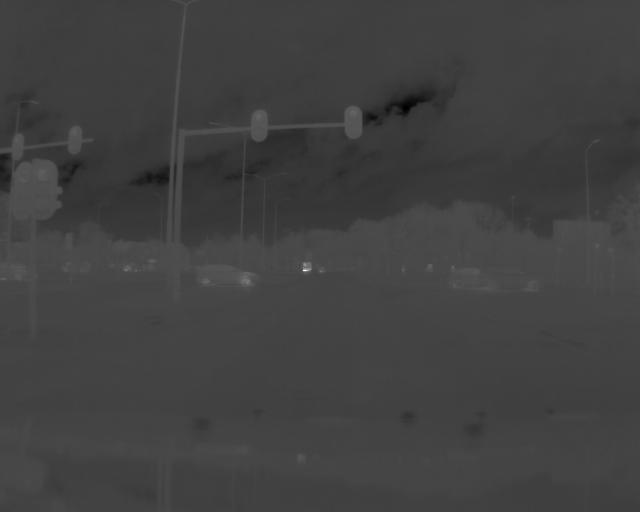car: (193, 263, 263, 288), (480, 266, 541, 291), (448, 265, 501, 293)
